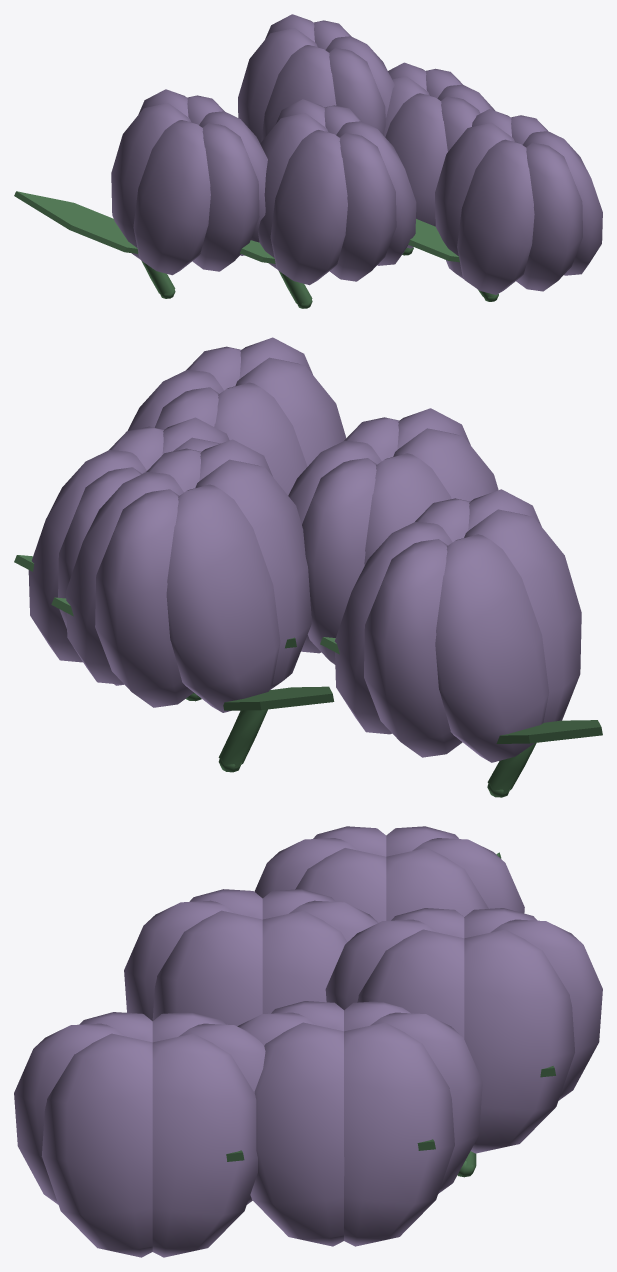
The model's file is almanac-gardens-crocus-cluster-33fcdf0c__22038.glb.
3 renders of one model, top to bottom at view 1: azimuth 30°, elevation 25°; view 2: azimuth 150°, elevation 25°; view 3: azimuth 270°, elevation 25°, orthographic. The views are drawn at different scales.
Visible parts, largest first — view 1: crocus-cluster-purple, crocus-cluster-leaf; view 2: crocus-cluster-purple, crocus-cluster-leaf; view 3: crocus-cluster-purple, crocus-cluster-leaf.
Part boxes in pixels (<box>): crocus-cluster-purple: <box>111,14,602,294</box>; crocus-cluster-leaf: <box>14,191,498,308</box>; crocus-cluster-purple: <box>28,337,581,762</box>; crocus-cluster-leaf: <box>14,555,602,797</box>; crocus-cluster-purple: <box>14,826,602,1257</box>; crocus-cluster-leaf: <box>226,852,555,1177</box>.
Bounding box in the file's own units: 0.7098 × 0.3017 × 0.5859.
